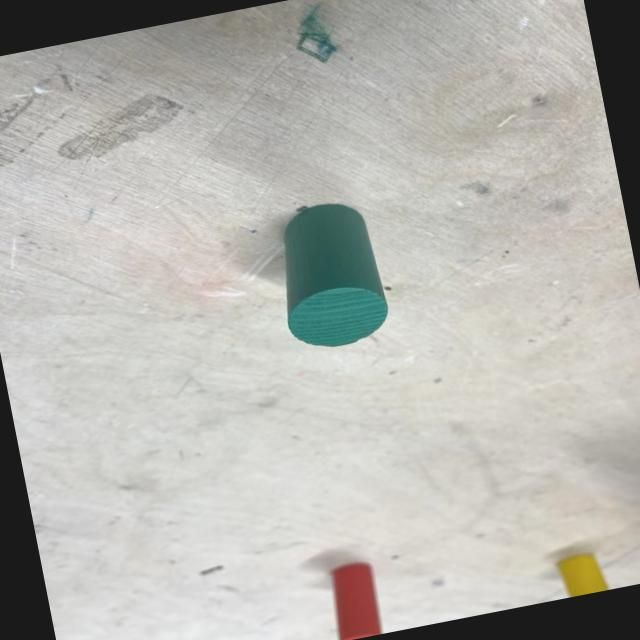green_cylinder: (266, 194, 394, 356)
